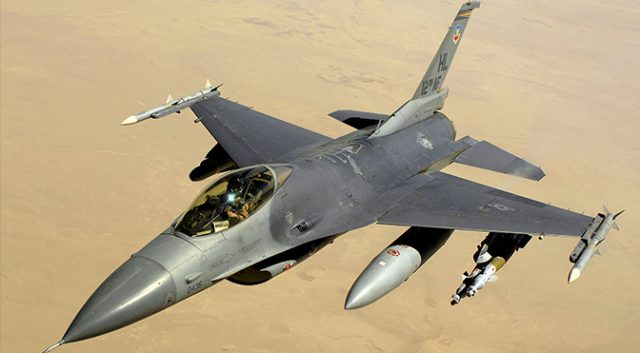aeroplane: (44, 2, 621, 336)
